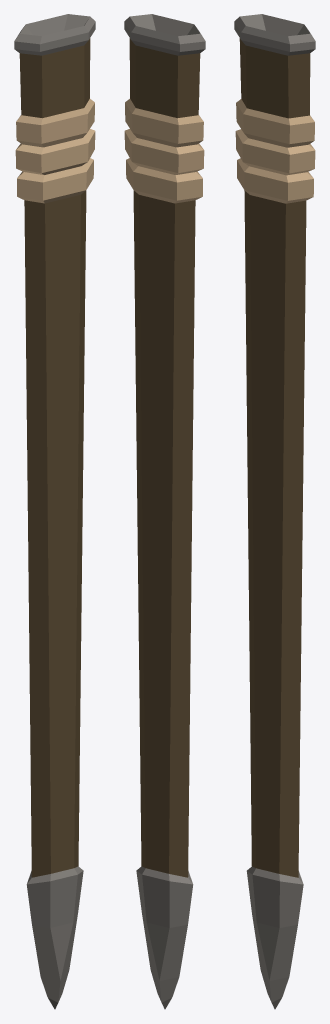
Rendered from SM_pwe_medieval_sword_scabbard_06.fbx.
The picture shows the model from 3 angles, left to right: view 1: azimuth 30°, elevation 25°; view 2: azimuth 150°, elevation 25°; view 3: azimuth 330°, elevation 25°; orthographic projection.
Parts seen in each view (by area): view 1: SM_pwe_medieval_sword_scabbard_06; view 2: SM_pwe_medieval_sword_scabbard_06; view 3: SM_pwe_medieval_sword_scabbard_06.
Part boxes in pixels (x1,y1,x2,y2): SM_pwe_medieval_sword_scabbard_06: (14,14,95,1009); SM_pwe_medieval_sword_scabbard_06: (124,14,205,1009); SM_pwe_medieval_sword_scabbard_06: (234,14,315,1009).
Size of the model in its own units: 6.46 by 74.54 by 2.58.
